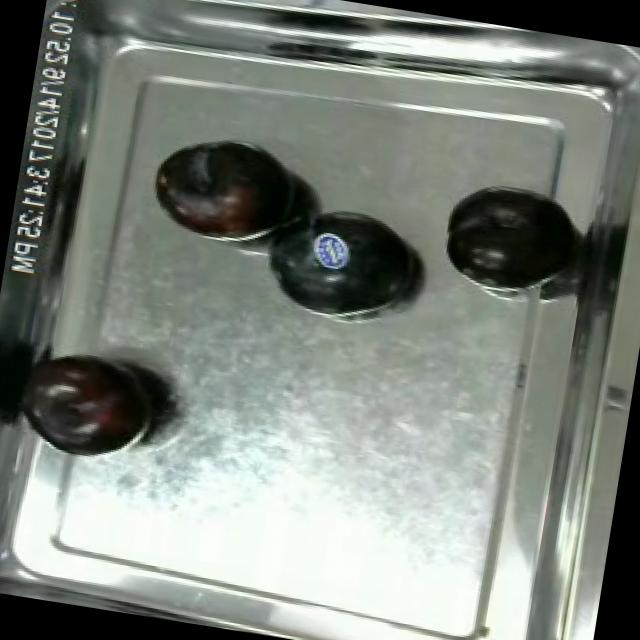Fruit: (245, 196, 428, 330), (143, 123, 310, 253), (9, 338, 170, 468), (432, 177, 583, 300)
